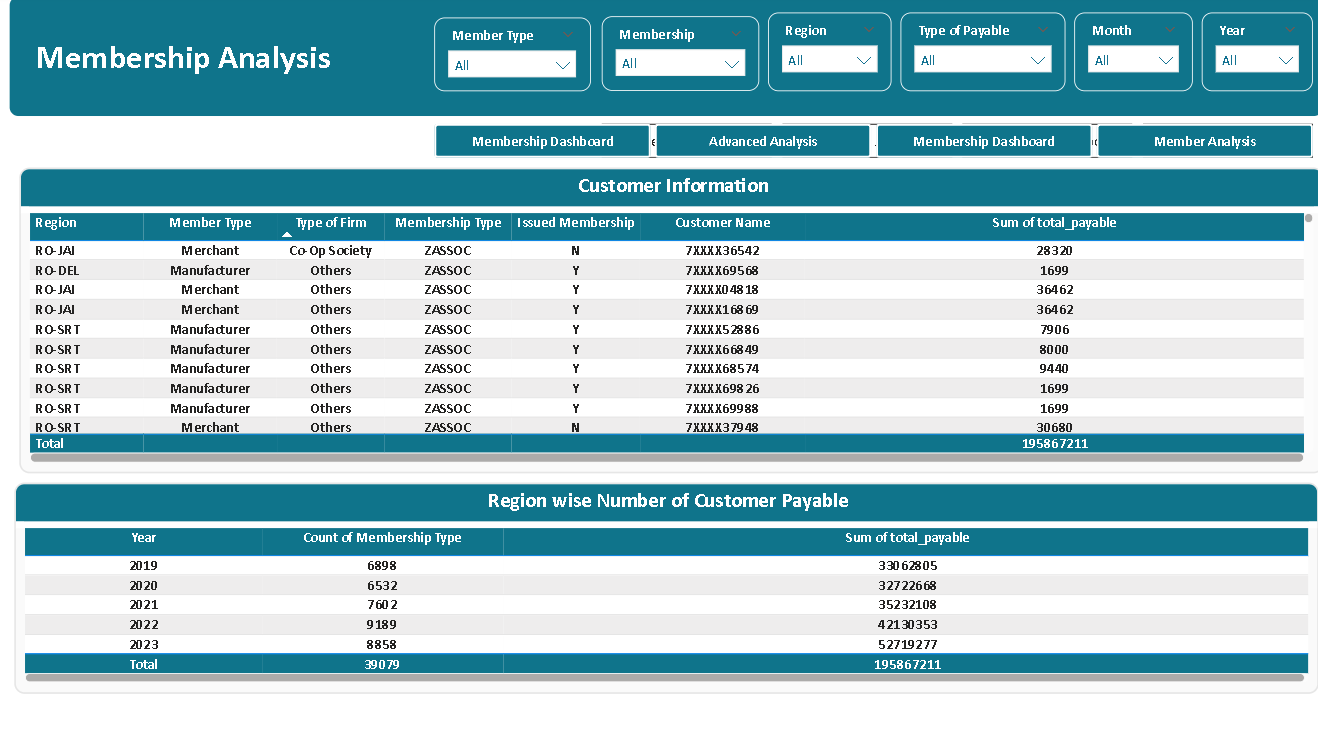

This screenshot's page, from the dashboard's own definition file:
{"tool":"powerbi","page":{"name":"Membership Analysis","canvas":[1280,720],"ordinal":2},"visuals":[{"type":"textbox","box":[9.7,0,1270.4,118.2],"z":0},{"type":"textbox","box":[31.7,34.6,320.3,51.9],"z":1000},{"type":"slicer","fields":{"Values":["Membership POC.post_date.Variation.Date Hierarchy.Month"]},"box":[1038.7,16.9,114.6,76],"z":2000},{"type":"slicer","fields":{"Values":["Membership POC.Type of Firm"]},"box":[871.1,16.9,159.3,76],"z":3000},{"type":"slicer","fields":{"Values":["Membership POC.Region"]},"box":[743.2,16.9,119.4,76],"z":4000},{"type":"slicer","fields":{"Values":["Membership POC.post_date.Variation.Date Hierarchy.Year"]},"box":[1161.8,16.9,107.4,76],"z":5000},{"type":"slicer","fields":{"Values":["Membership POC.Member Type"]},"box":[421,21.7,150.8,71.2],"z":6000},{"type":"slicer","fields":{"Values":["Membership POC.Membership Type"]},"box":[582.7,20.5,152,72.4],"z":7000},{"type":"tableEx","title":"Customer Information","fields":{"Values":["Membership POC.Region","Membership POC.Member Type","Membership POC.Type of Firm","Membership POC.Membership Type","Membership POC.Issued Membership","Membership POC.Customer Name","Sum(Membership POC.total_payable)"]},"box":[20.5,166.5,1259.5,295.6],"z":8000},{"type":"pageNavigator","box":[582.7,124.3,686.5,33.8],"z":9000},{"type":"pageNavigator","box":[421,124.3,848.1,33.8],"z":10000},{"type":"tableEx","title":"Region wise Number of Customer Payable","fields":{"Values":["Membership POC.post_date.Variation.Date Hierarchy.Year","Membership POC.Membership Type","Sum(Membership POC.total_payable)"]},"box":[15.7,470.5,1259.5,203.9],"z":11000}]}

Visuals, with their boxes in screenshot pixels (x1, y1, x2, y2), scaled from the page's 1280x720 canvas onto the 1318x734 screenshot:
textbox: 10,0,1317,120
textbox: 33,35,362,88
slicer - Membership POC.post_date.Variation.Date Hierarchy.Month: 1070,17,1188,95
slicer - Membership POC.Type of Firm: 897,17,1061,95
slicer - Membership POC.Region: 765,17,888,95
slicer - Membership POC.post_date.Variation.Date Hierarchy.Year: 1196,17,1307,95
slicer - Membership POC.Member Type: 433,22,589,95
slicer - Membership POC.Membership Type: 600,21,757,95
"Customer Information" tableEx: 21,170,1317,471
pageNavigator: 600,127,1307,161
pageNavigator: 433,127,1307,161
"Region wise Number of Customer Payable" tableEx: 16,480,1313,688
